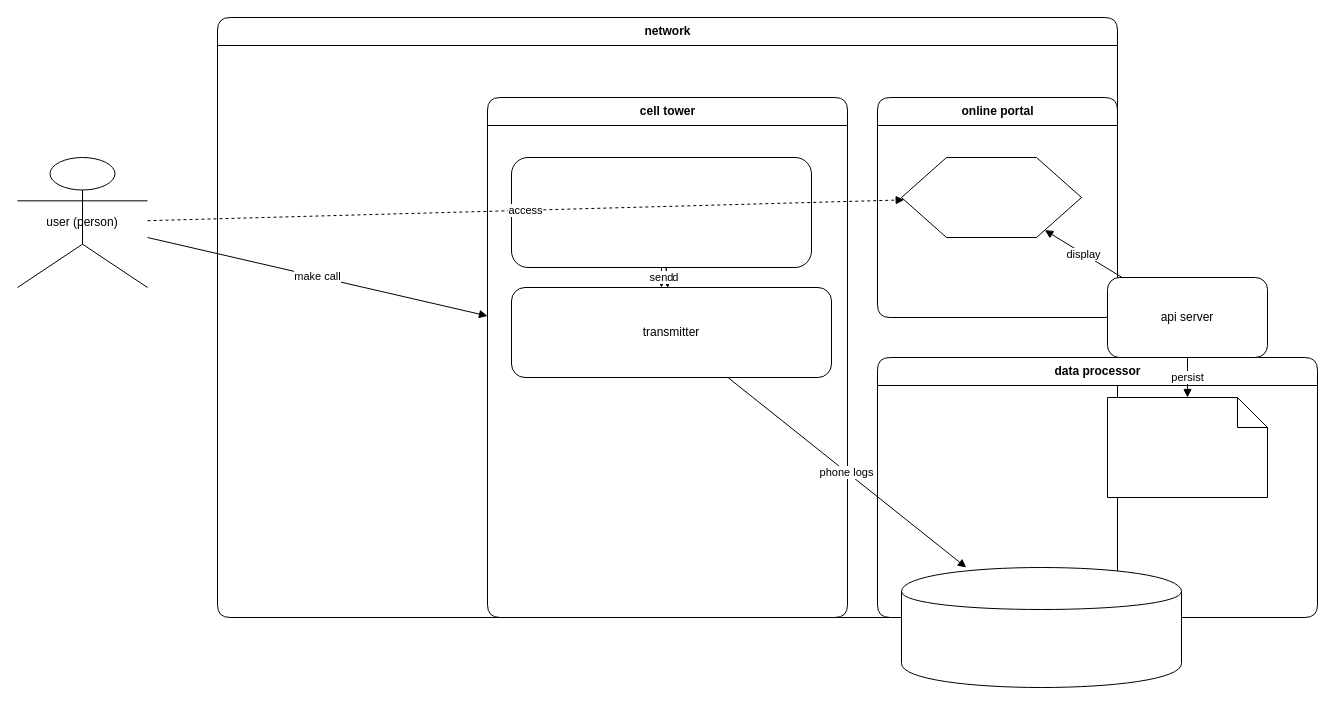
Some shapes in this 1335 by 705 pixel diagram are drawn without their labels. The shapes that lost their labels are listed below. From the top down, each one's centre as x and y in pixels, then its label:
At [661,212]: "satellites (stored_data, multiple)".
At [991,197]: "ui (hexagon)".
At [1187,447]: "logs (page, multiple)".
At [1041,627]: "storage (cylinder, multiple)".
